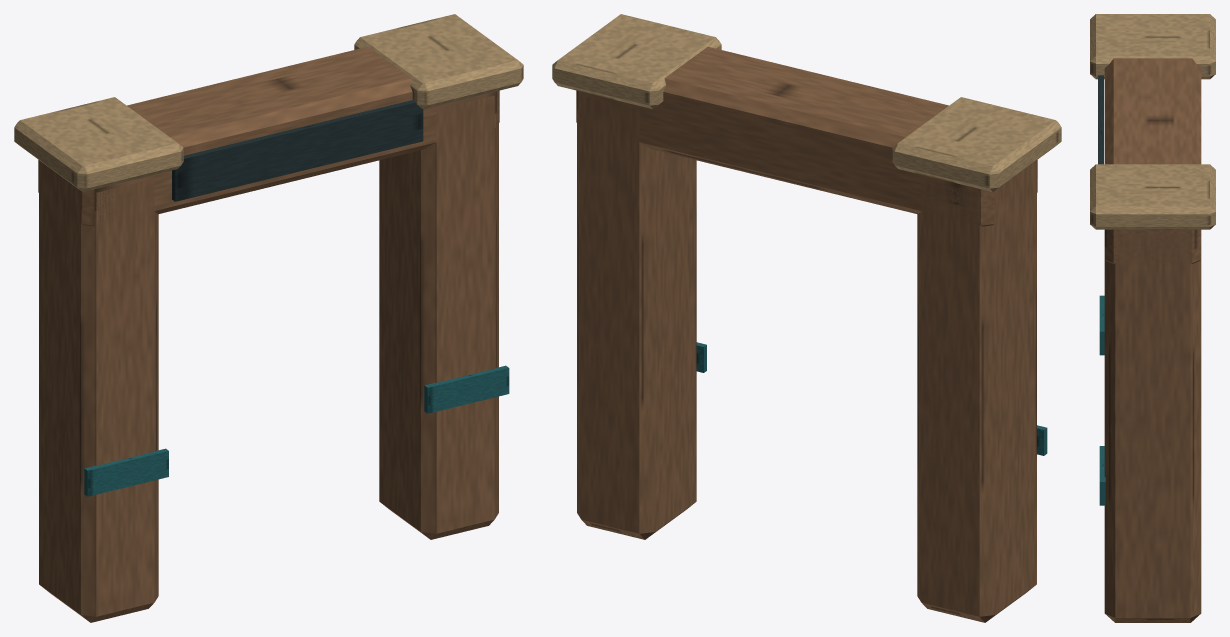
File: gate.glb
3 views of the same model, side by side, from view 1: azimuth 30°, elevation 25°; view 2: azimuth 150°, elevation 25°; view 3: azimuth 270°, elevation 25° (orthographic). The views are drawn at different scales.
Visible parts, largest first — view 1: gate_plaster.002, gate_pale.002, gate_metal.002, gate_paint.002; view 2: gate_plaster.002, gate_pale.002; view 3: gate_plaster.002, gate_pale.002, gate_paint.002, gate_metal.002.
Part boxes in pixels (left/top/right/bottom): gate_plaster.002: left=38, top=46, right=499, bottom=622; gate_pale.002: left=14, top=14, right=523, bottom=191; gate_metal.002: left=172, top=100, right=423, bottom=201; gate_paint.002: left=84, top=365, right=509, bottom=496; gate_plaster.002: left=576, top=46, right=1037, bottom=622; gate_pale.002: left=552, top=14, right=1061, bottom=191; gate_plaster.002: left=1104, top=58, right=1201, bottom=622; gate_pale.002: left=1090, top=14, right=1215, bottom=229; gate_paint.002: left=1099, top=295, right=1105, bottom=505; gate_metal.002: left=1098, top=75, right=1103, bottom=164.
Bounding box in the file's own units: 6.3 × 6.33 × 1.7.
4 materials, 4 textured.
